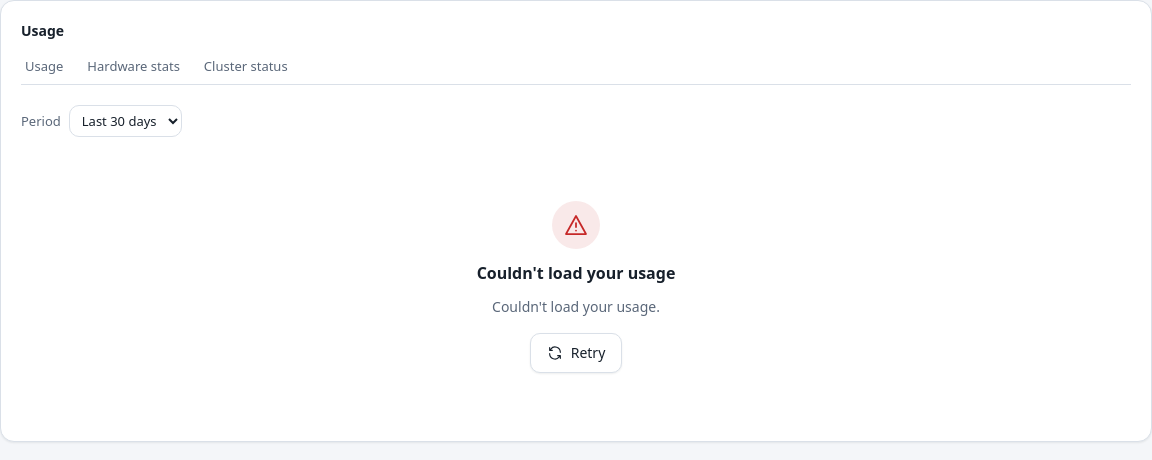
work pages on the kit › Usage shows an error with Retry and stat tiles when loaded
The width and height of the screenshot is (1152, 460).
Click the button "Retry" at (576,353), box x1=530 y1=333 x2=622 y2=373
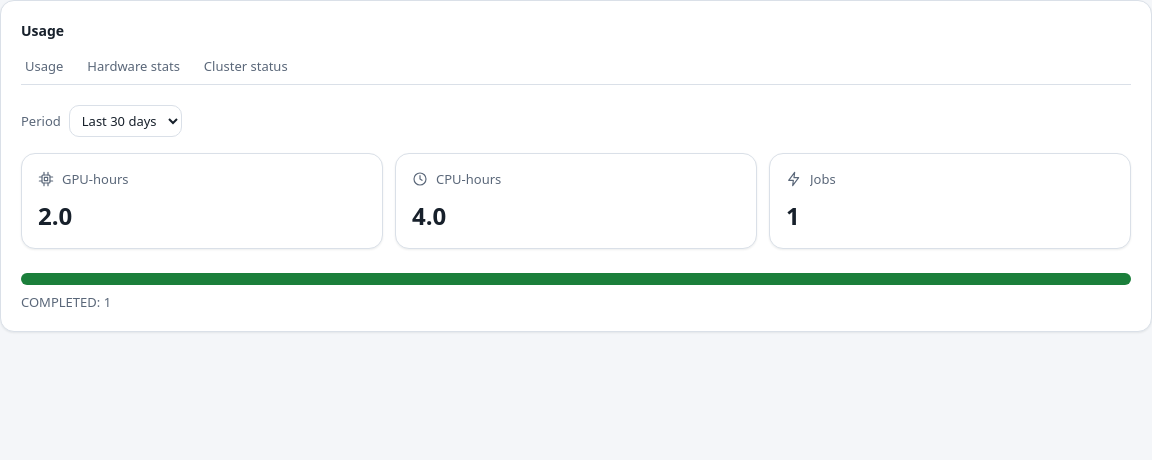
Expected: the element "GPU-hours" is shown, x1=21 y1=153 x2=383 y2=249
